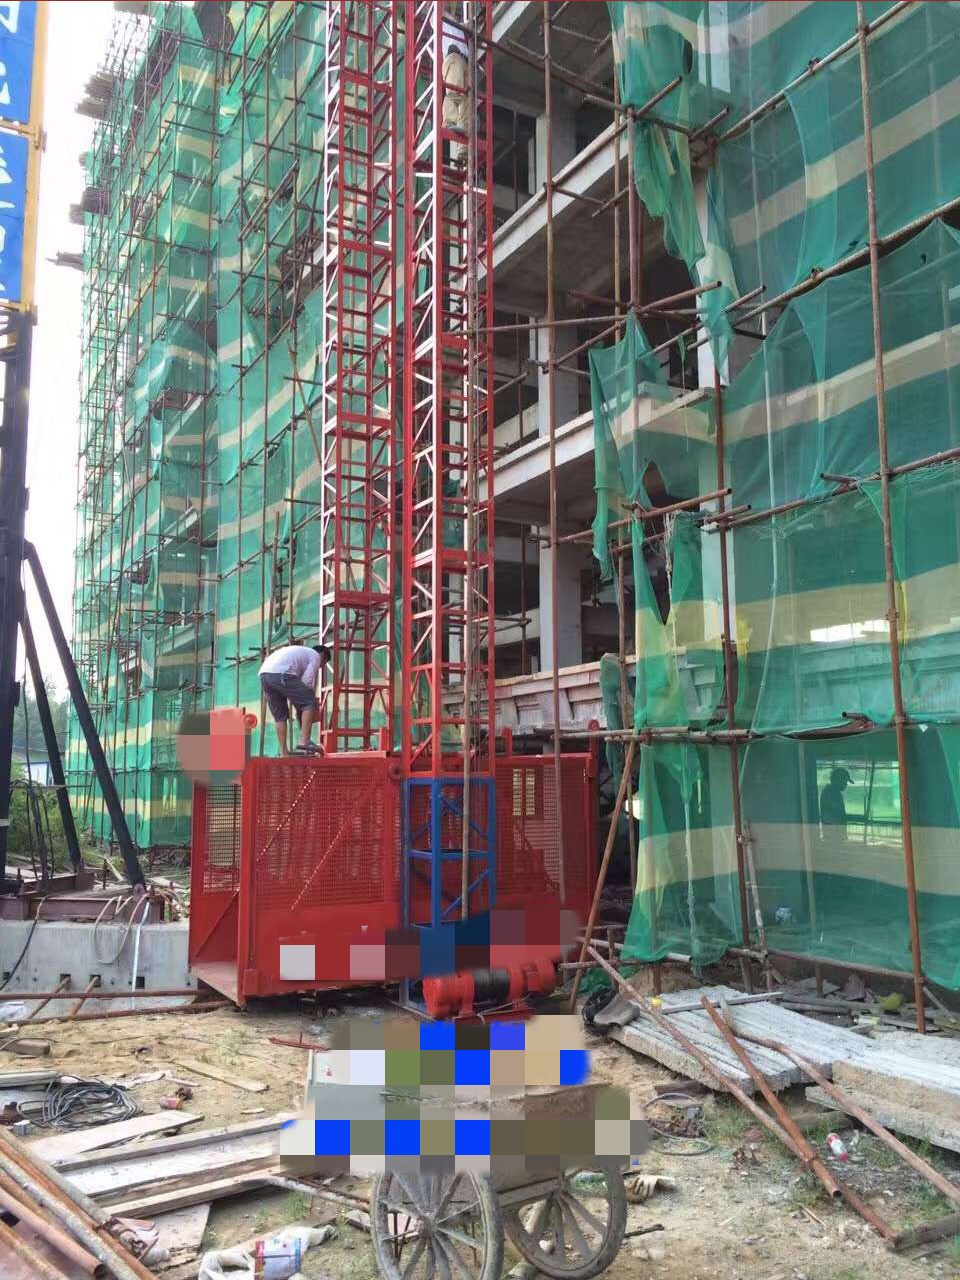handcart: (255, 1119, 656, 1280)
person: (257, 643, 332, 755)
